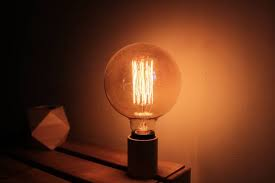bulb: (100, 39, 186, 142)
